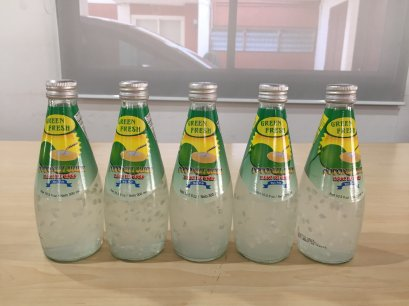glass_bottle: (296, 78, 367, 265), (34, 77, 104, 264), (101, 77, 170, 262), (232, 81, 299, 262), (169, 79, 233, 263)
